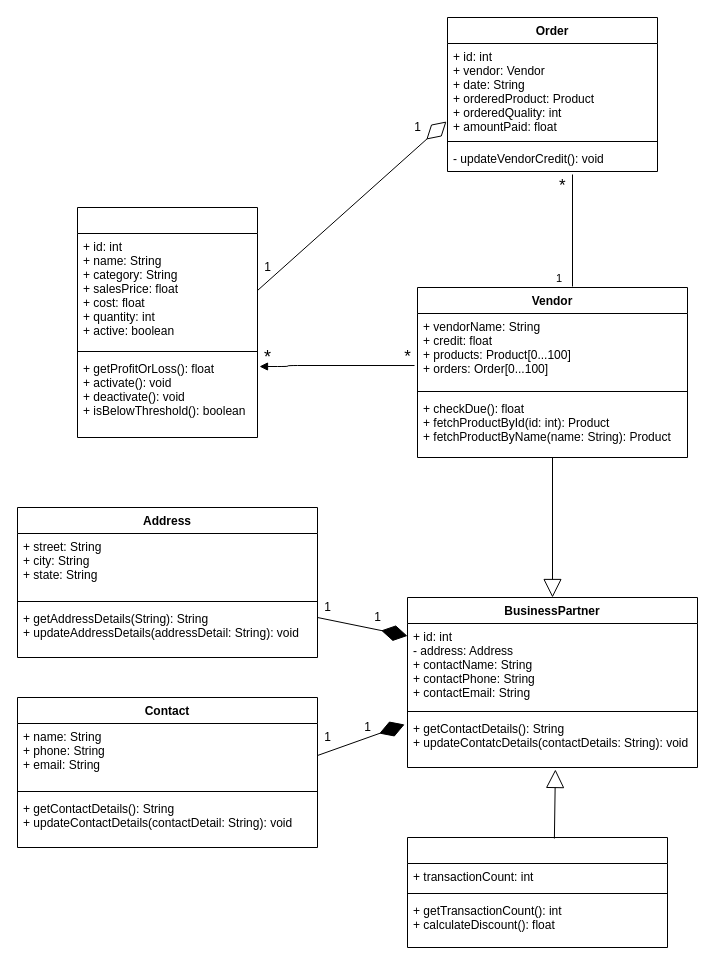
Some shapes in this 715 by 968 pixel diagram are drawn without their labels. The shapes that lost their labels are listed below. From the top down, each one's box as (x1, y1, x2, y2) in pixels, then its label:
(76, 206, 258, 438): Product
(406, 836, 668, 948): Customer
